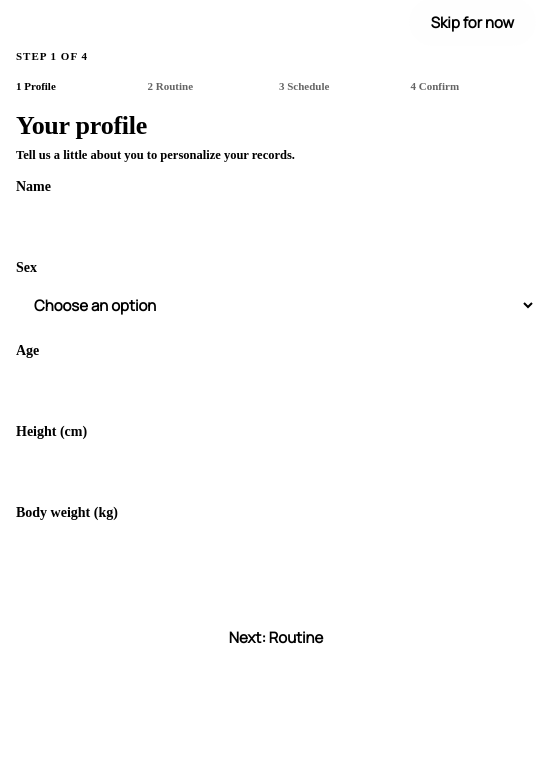
SetupWizard shell › keeps the profile step blocked when Next is pressed with an invalid profile
Click the button "Next: Routine" at (276, 638), box x1=16 y1=614 x2=536 y2=662
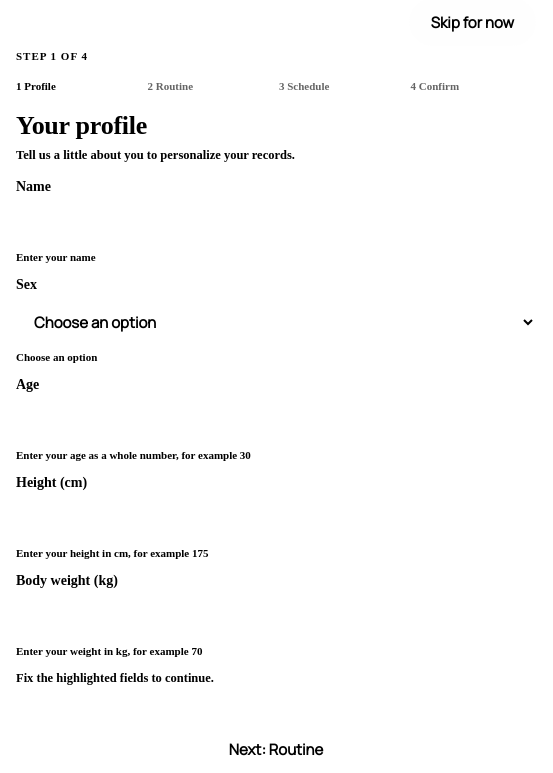
Check: the message "Fix the highlighted fields to continue." is shown, box x1=16 y1=670 x2=214 y2=684
